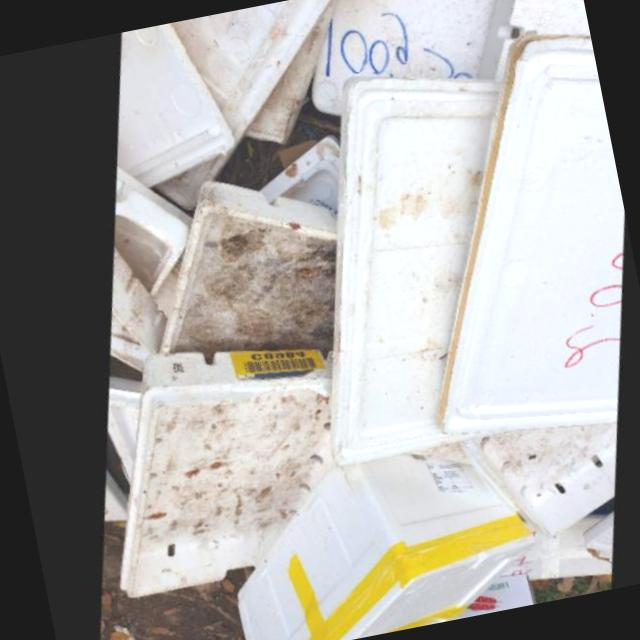xop: (431, 27, 617, 429), (325, 73, 488, 463), (235, 449, 533, 640), (118, 346, 329, 597), (153, 179, 328, 364), (107, 25, 225, 187), (468, 416, 612, 531), (104, 247, 159, 372)
